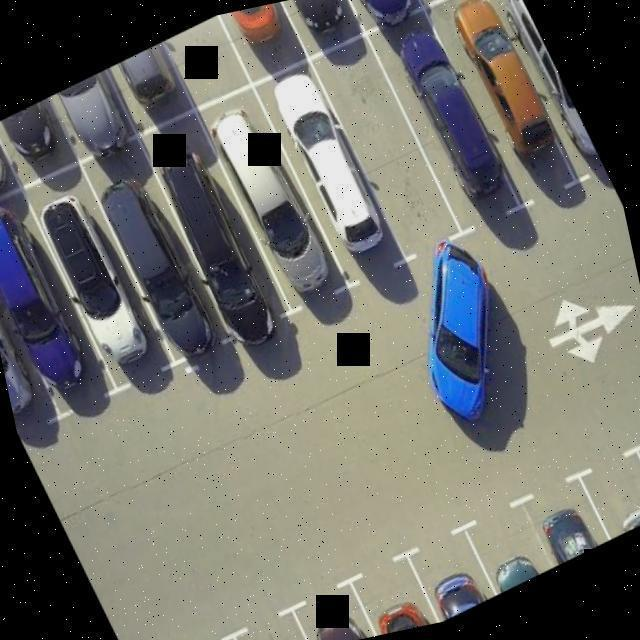space-empty: (310, 24, 469, 273), (158, 11, 255, 112), (399, 0, 479, 12)
space-occupied: (251, 45, 414, 301), (367, 0, 529, 245), (129, 96, 290, 342), (189, 69, 348, 314), (76, 123, 231, 371), (23, 149, 172, 383), (426, 0, 585, 218), (0, 176, 125, 427), (476, 0, 602, 185), (0, 199, 64, 440), (46, 64, 146, 172), (458, 493, 561, 597), (404, 520, 505, 624), (343, 545, 443, 639), (518, 474, 614, 570), (102, 39, 194, 136), (0, 92, 85, 195), (219, 0, 309, 87), (571, 446, 640, 543), (283, 574, 383, 640), (278, 0, 371, 69), (225, 591, 324, 640), (337, 0, 425, 36), (0, 121, 26, 218), (627, 422, 640, 515)
